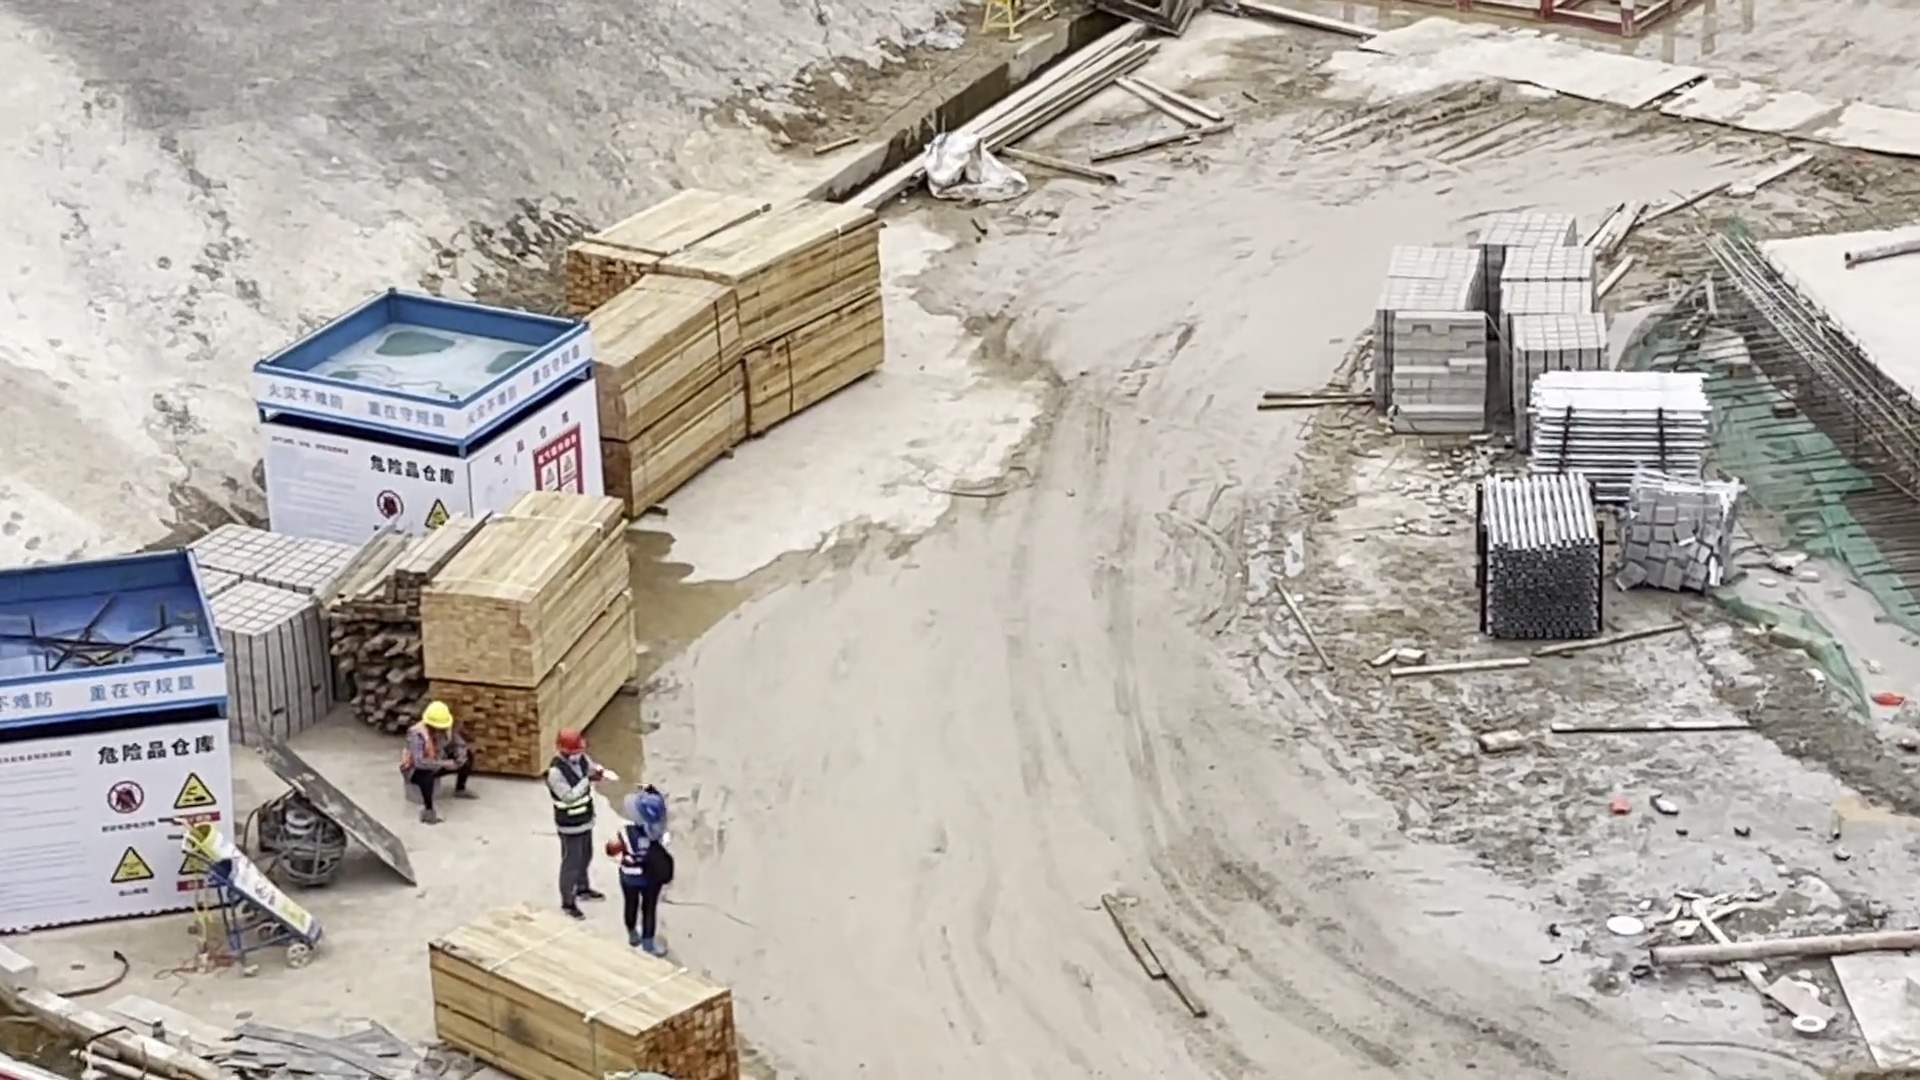brick: (1373, 192, 1610, 437), (190, 515, 358, 769)
handcart: (144, 807, 348, 977)
helmet: (619, 785, 671, 843), (551, 720, 597, 758), (421, 696, 458, 735)
person: (592, 762, 685, 973), (531, 712, 612, 923), (388, 683, 478, 827)
scaffold: (1526, 361, 1735, 492), (1481, 466, 1610, 635)
slogan: (1, 668, 250, 943), (253, 432, 475, 541), (468, 404, 644, 520), (245, 362, 471, 449), (430, 320, 610, 409)
vest: (604, 823, 672, 899), (541, 757, 603, 841), (394, 722, 461, 780)
wood: (565, 180, 906, 532), (333, 487, 652, 782), (427, 895, 762, 1080)
